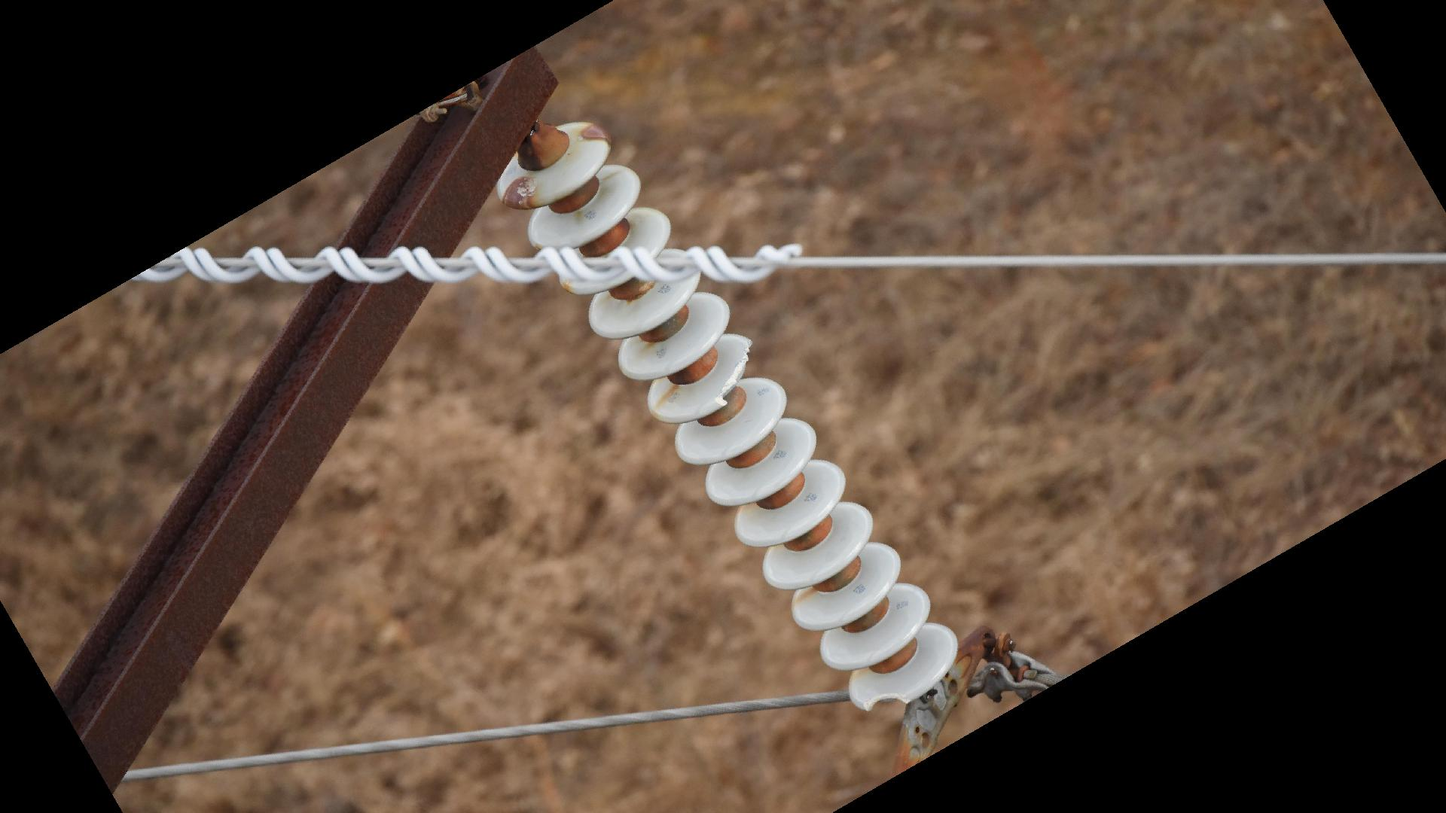insulator: (488, 114, 963, 720)
insulator_breakage: (712, 334, 759, 413), (859, 687, 914, 715)
